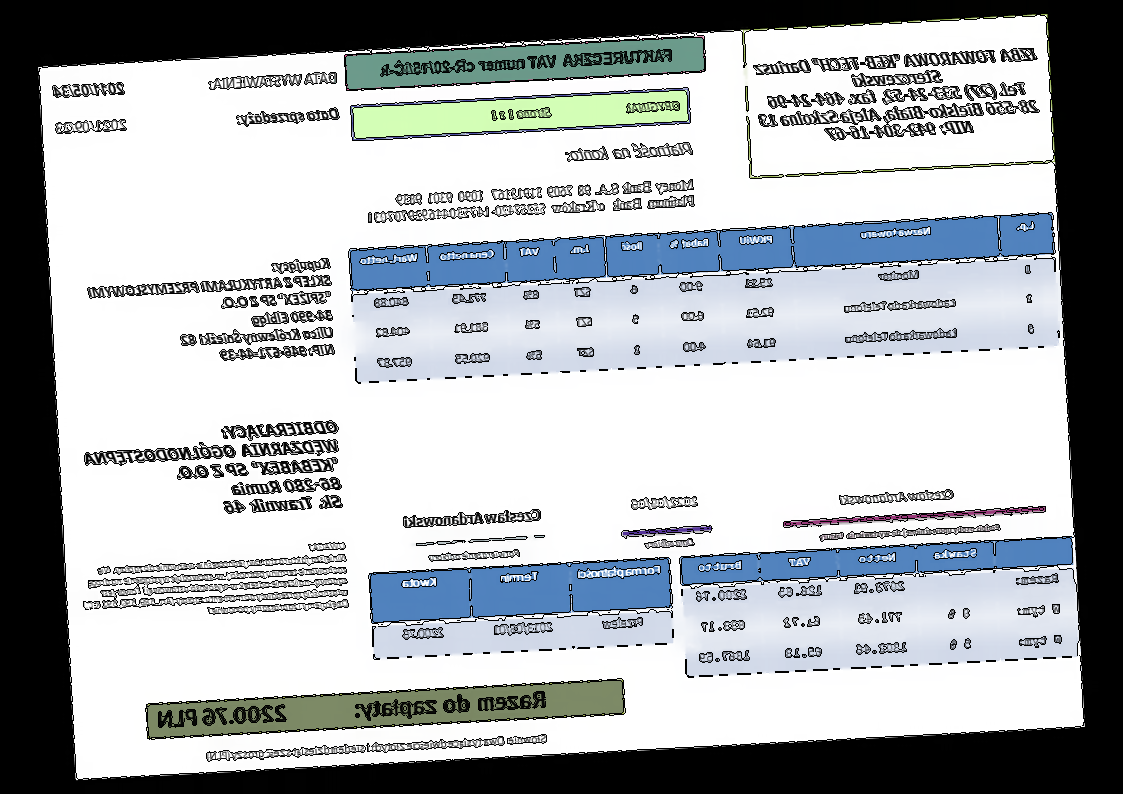Table: (347, 210, 1061, 385), (678, 534, 1080, 679), (367, 554, 676, 661)
TextBox: (752, 42, 1045, 149), (82, 253, 338, 371), (80, 418, 345, 525), (78, 537, 351, 625), (155, 687, 550, 734), (363, 174, 699, 226), (204, 730, 551, 765), (377, 44, 674, 79), (489, 95, 684, 124), (816, 520, 1004, 543), (400, 504, 545, 531), (562, 138, 696, 165), (207, 67, 340, 93), (836, 484, 956, 508), (234, 104, 341, 129), (50, 78, 127, 101), (427, 546, 524, 564), (54, 115, 130, 137), (630, 493, 700, 513), (642, 535, 699, 550)
